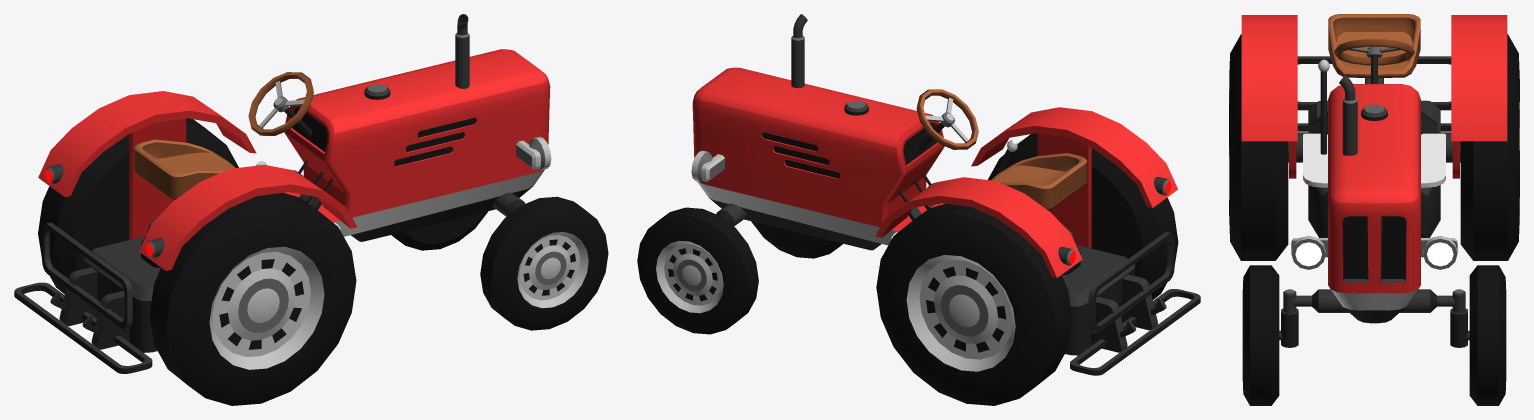
Rendered from Construction_010.glb.
3 renders of one model, left to right at view 1: azimuth 30°, elevation 25°; view 2: azimuth 150°, elevation 25°; view 3: azimuth 270°, elevation 25°, orthographic. The views are drawn at different scales.
Visible parts, largest first — view 1: Construction_010, wheel_3_Construction_010_Wheel_2R, wheel_1_Construction_010_Wheel_1R, wheel_2_Construction_010_Wheel_2L, wheel_0_Construction_010_Wheel_1L; view 2: Construction_010, wheel_2_Construction_010_Wheel_2L, wheel_0_Construction_010_Wheel_1L, wheel_3_Construction_010_Wheel_2R, wheel_1_Construction_010_Wheel_1R; view 3: Construction_010, wheel_2_Construction_010_Wheel_2L, wheel_3_Construction_010_Wheel_2R, wheel_0_Construction_010_Wheel_1L, wheel_1_Construction_010_Wheel_1R.
Boxes of the visible parts, x1,y1,x2,y2 form: Construction_010: (14,14,551,373); wheel_3_Construction_010_Wheel_2R: (149,192,356,405); wheel_1_Construction_010_Wheel_1R: (480,196,608,330); wheel_2_Construction_010_Wheel_2L: (38,118,238,294); wheel_0_Construction_010_Wheel_1L: (391,211,487,250); Construction_010: (691,14,1200,375); wheel_2_Construction_010_Wheel_2L: (876,203,1072,405); wheel_0_Construction_010_Wheel_1L: (637,207,758,334); wheel_3_Construction_010_Wheel_2R: (988,133,1178,299); wheel_1_Construction_010_Wheel_1R: (751,221,842,258); Construction_010: (1241,14,1507,323); wheel_2_Construction_010_Wheel_2L: (1452,34,1519,260); wheel_3_Construction_010_Wheel_2R: (1229,34,1296,260); wheel_0_Construction_010_Wheel_1L: (1450,265,1506,405); wheel_1_Construction_010_Wheel_1R: (1242,265,1298,405).
Size of the model in its own units: 3.6 by 2.08 by 1.8.
2 materials, 2 textured.
